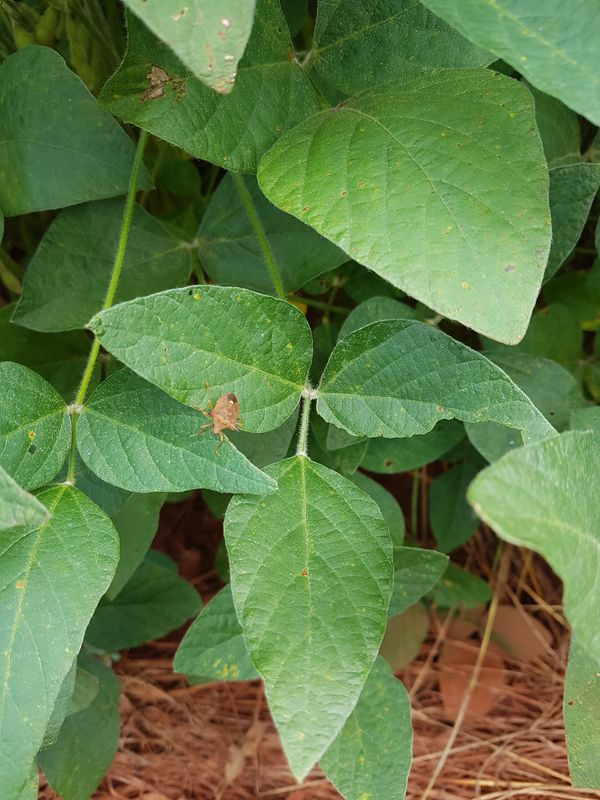Euschistus_heros_adulto: (183, 374, 258, 460)
